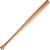baseball bat: (1, 1, 50, 49)
